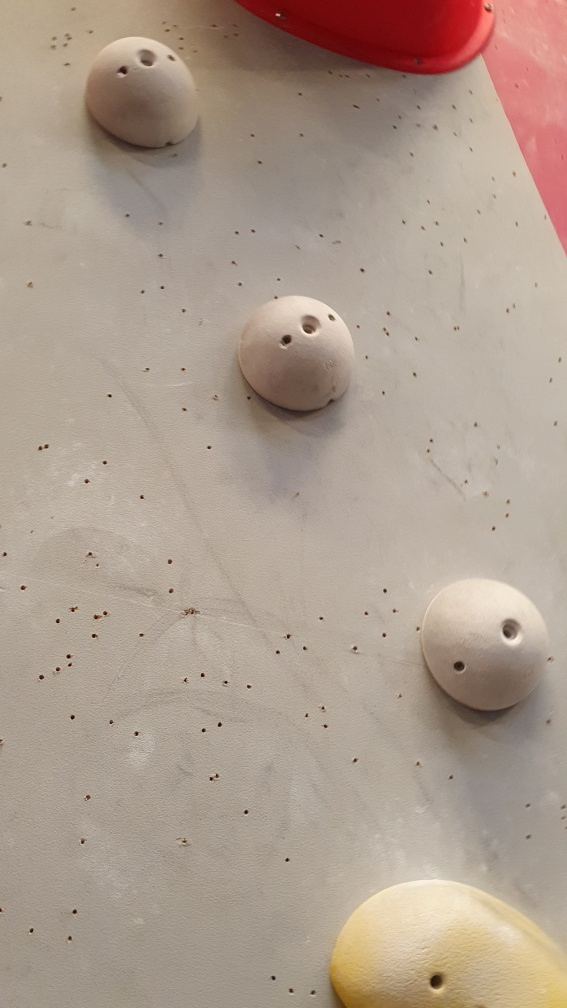Sloper: (423, 574, 549, 717), (234, 290, 362, 421), (87, 38, 199, 152)
